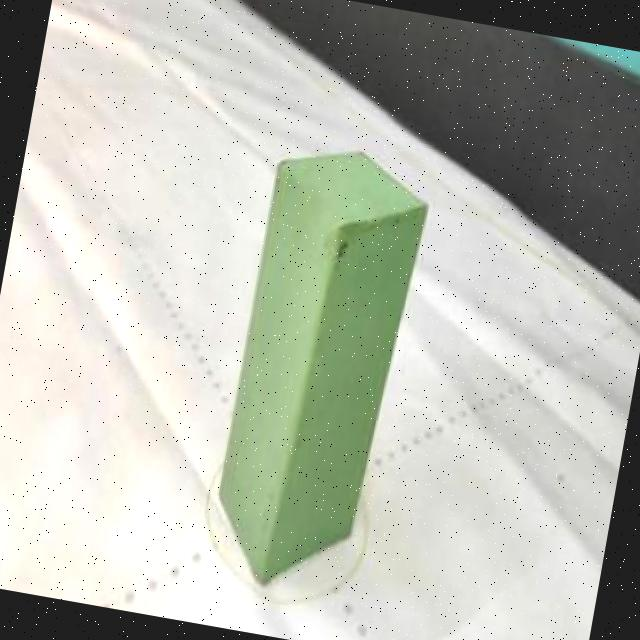greenbox: (204, 136, 440, 601)
